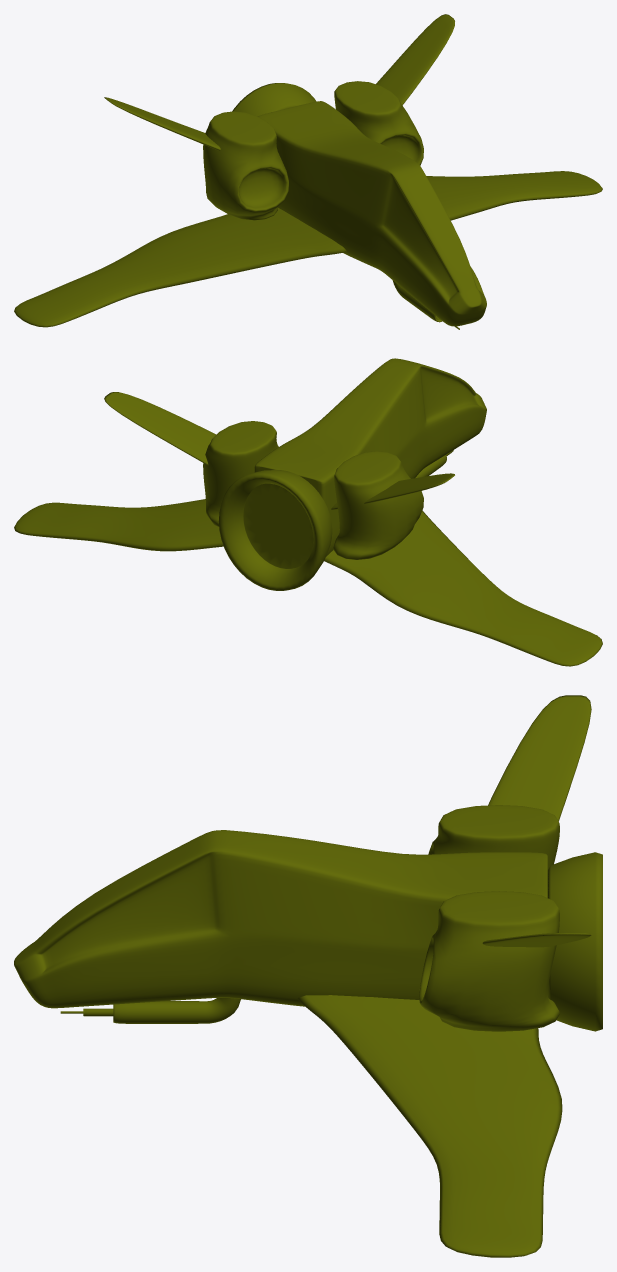
Rendered from spaceship_v1.fbx.
The picture shows the model from 3 angles, top to bottom: view 1: azimuth 30°, elevation 25°; view 2: azimuth 150°, elevation 25°; view 3: azimuth 270°, elevation 25°; orthographic projection. The views are drawn at different scales.
Visible parts, largest first — view 1: spaceship_v2_smooth; view 2: spaceship_v2_smooth; view 3: spaceship_v2_smooth.
Boxes of the visible parts, x1,y1,x2,y2 form: spaceship_v2_smooth: [14, 14, 602, 329]; spaceship_v2_smooth: [14, 358, 602, 666]; spaceship_v2_smooth: [14, 695, 602, 1257].
Size of the model in its own units: 0.0726 by 0.0211 by 0.0455.
